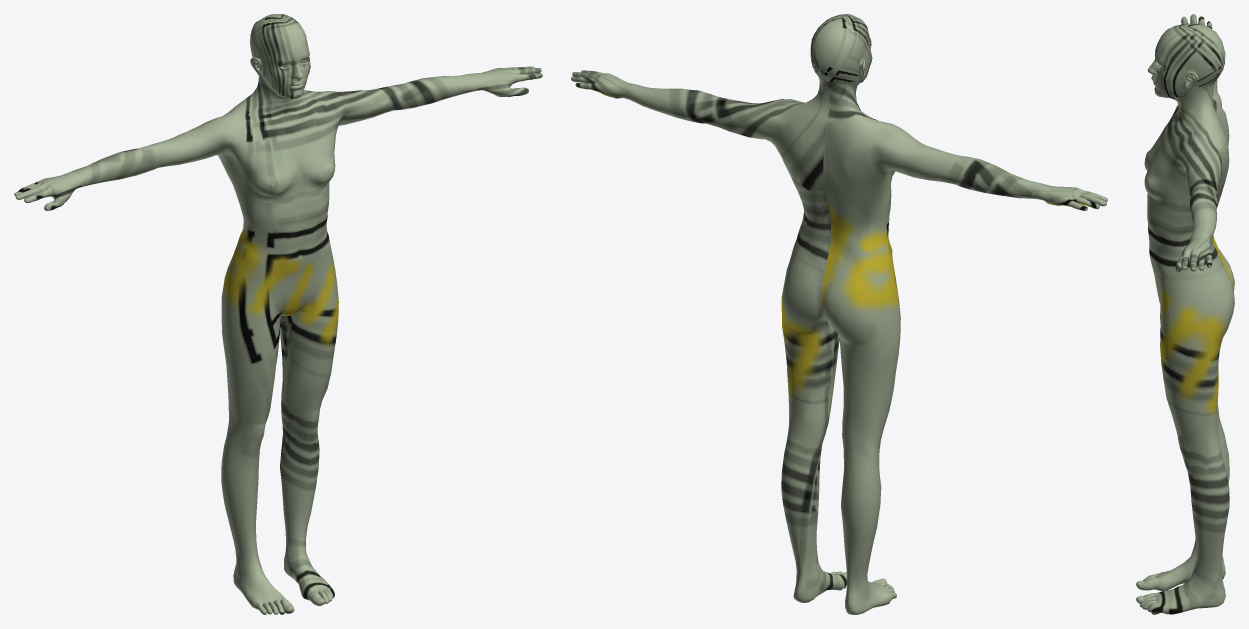
File: human.obj
3 renders of one model, left to right at view 1: azimuth 30°, elevation 25°; view 2: azimuth 150°, elevation 25°; view 3: azimuth 270°, elevation 25°, orthographic. The views are drawn at different scales.
Bounding box in the file's own units: 16.1 × 16.84 × 2.64.
